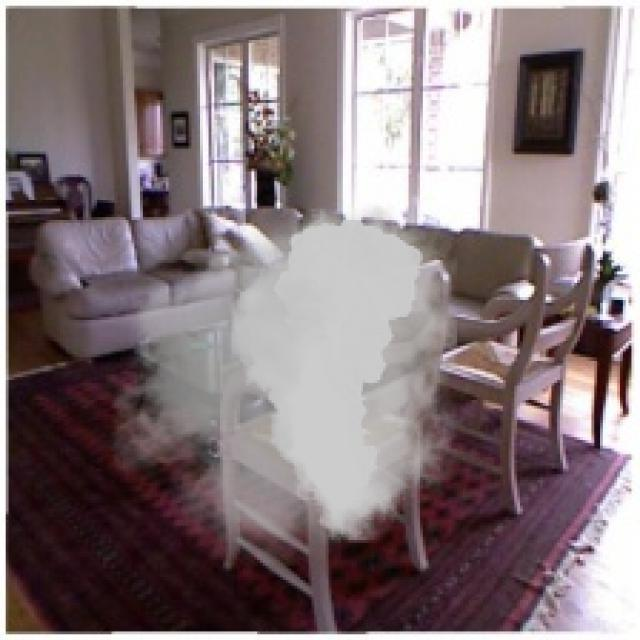Smoke: (89, 194, 488, 566)
